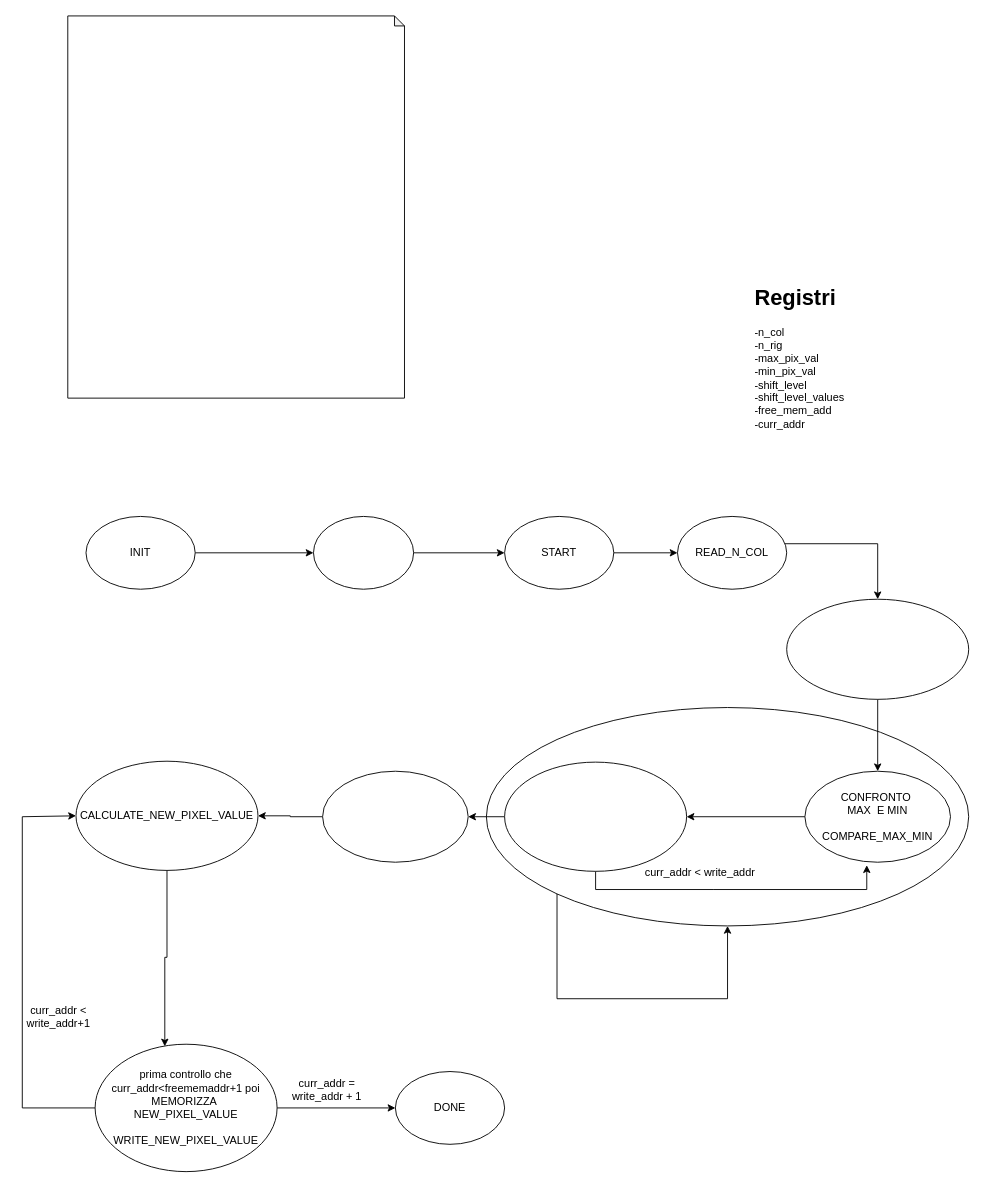
The diagram is 985 pixels wide and 1188 high, and some of its shapes have lost their labels. Each missing label, with the centre of its shape:
"ADDR +1 E CONFRONTO FREE MEM ADDRESS e tolgo 2 a free mem addr IS_WRITE_ADDR" goes at pixel 595 816.
"CALCULATE_SHIFT_LEVEL" goes at pixel 395 816.
"LEGGO N_RIG E CALCOLO FREE_MEM_ADDR CALCULATE_WRITE_ADDR" goes at pixel 877 648.
"RESET" goes at pixel 363 552.
